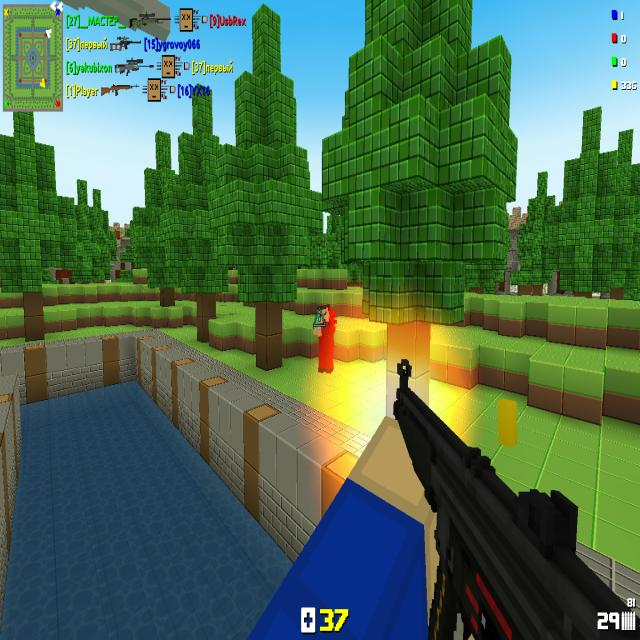enemy: (312, 302, 334, 375)
